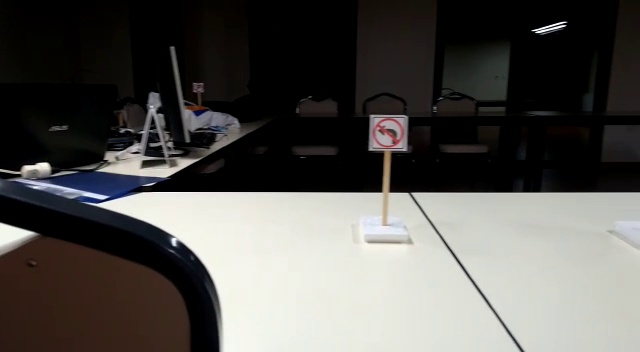sola_donulmez: (367, 114, 405, 150)
